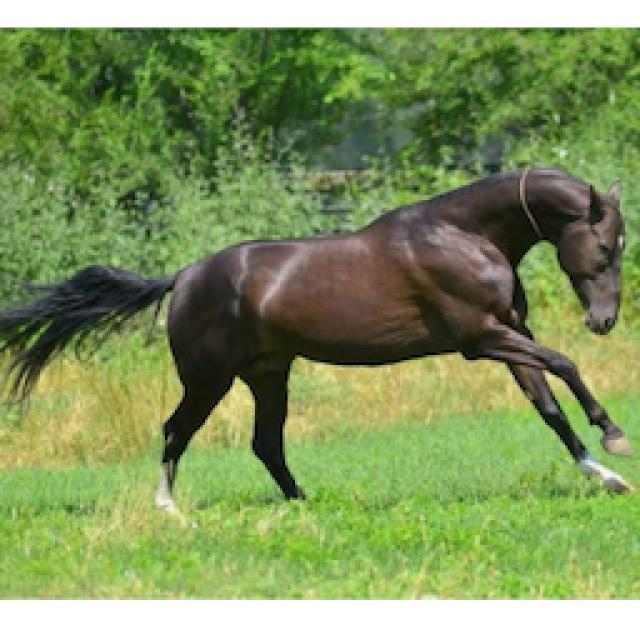Horse: (0, 155, 638, 520)
